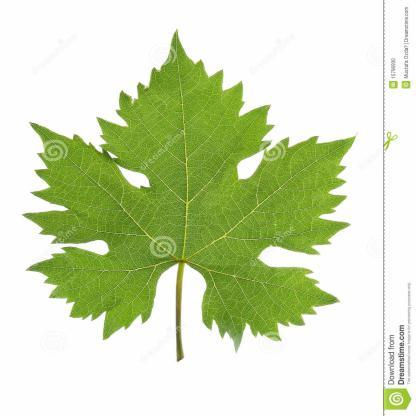grape leaf black rot: (25, 27, 368, 365)
